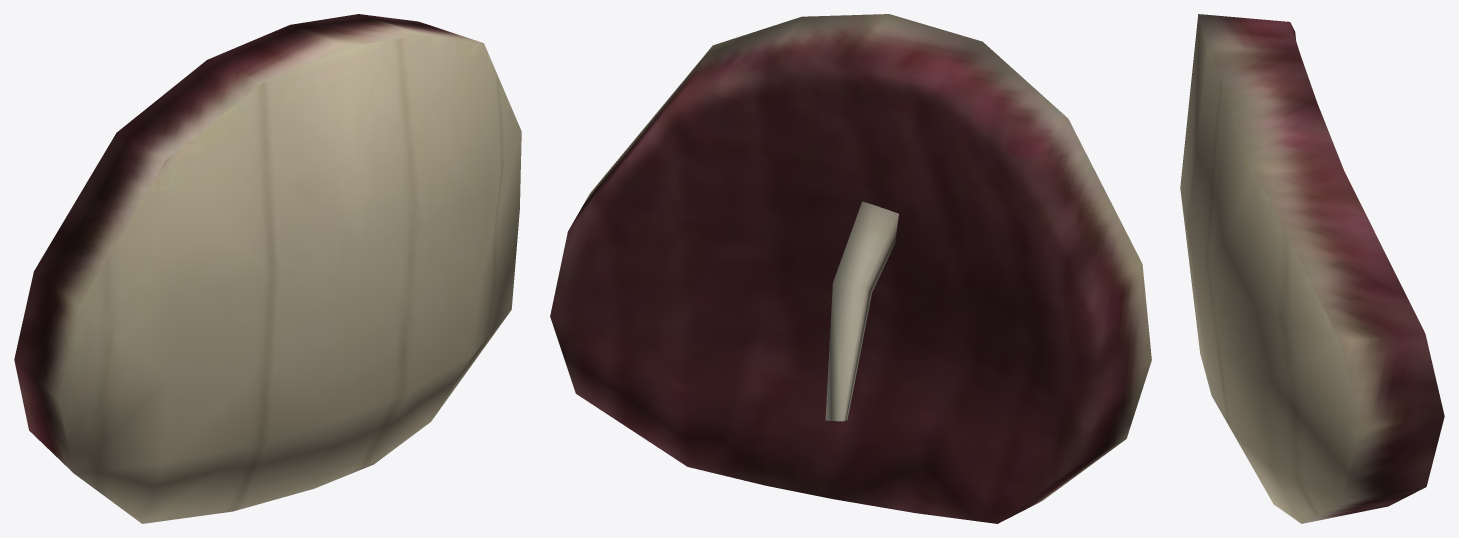
Rendered from hallowShield.glb.
3 views of the same model, side by side, from view 1: azimuth 30°, elevation 25°; view 2: azimuth 150°, elevation 25°; view 3: azimuth 270°, elevation 25° (orthographic). The views are drawn at different scales.
Parts seen in each view (by area): view 1: hallowShield; view 2: hallowShield; view 3: hallowShield.
Part boxes in pixels (<box>): hallowShield: <box>14,14,521,523</box>; hallowShield: <box>550,14,1151,523</box>; hallowShield: <box>1180,14,1444,523</box>.
Bounding box in the file's own units: 1.18 × 0.9723 × 0.538.
Materials: 1 (1 with a texture image).
